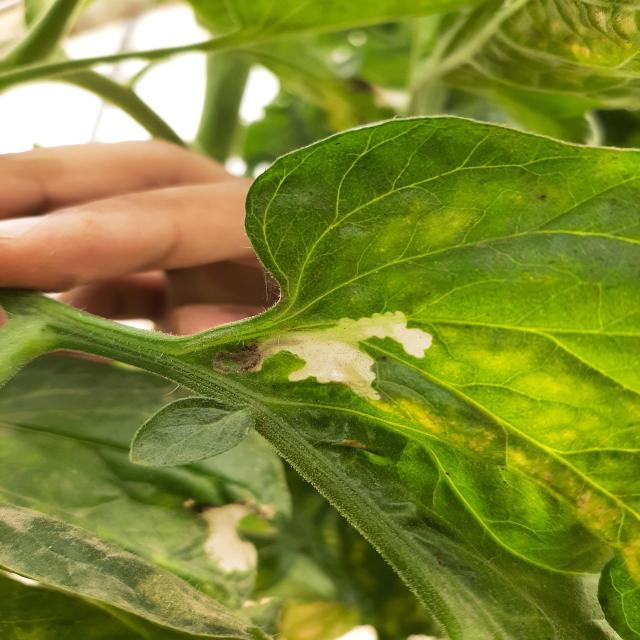Tuta absoluta: (248, 281, 437, 410)
